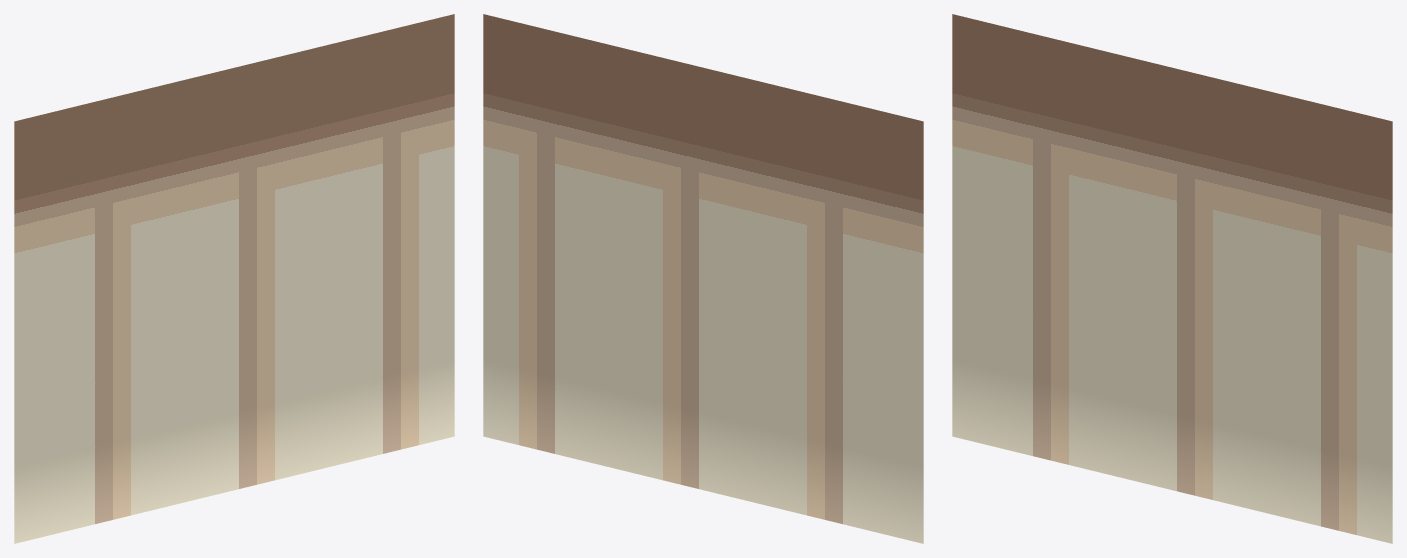
File: hgss-passage-kit-linteau-panneaux.glb
3 views of the same model, side by side, from view 1: azimuth 30°, elevation 25°; view 2: azimuth 150°, elevation 25°; view 3: azimuth 330°, elevation 25° (orthographic).
Size of the model in its own units: 3 by 2.75 by 0.
Materials: 1 (1 with a texture image).
